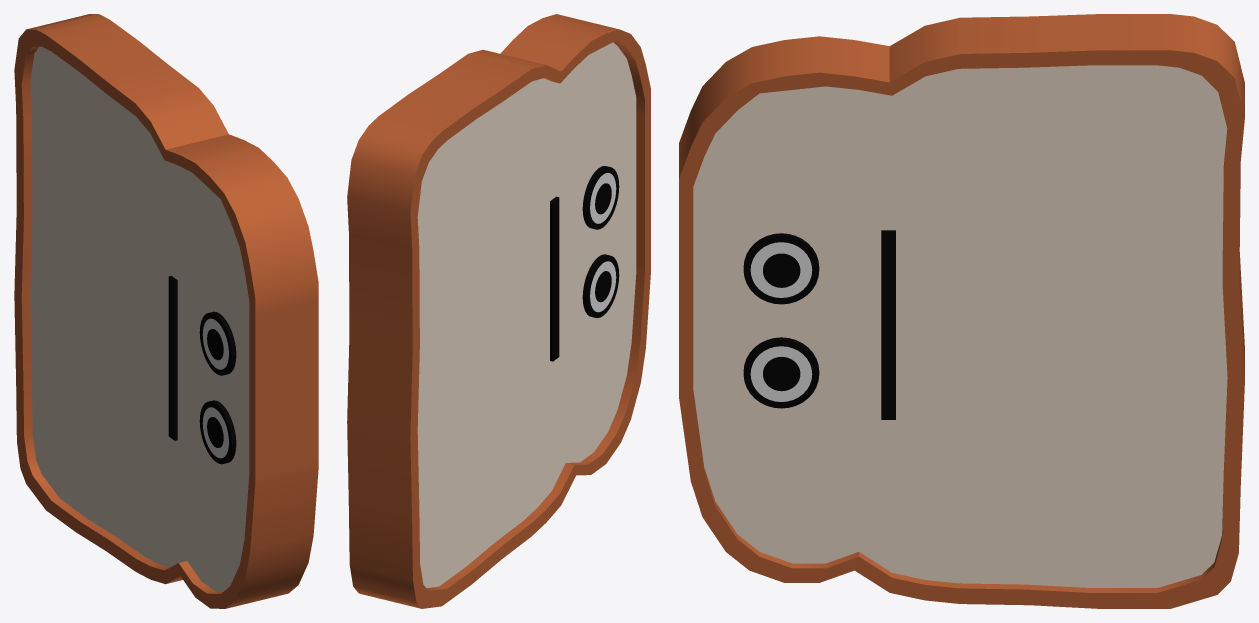
File: toast.glb
3 views of the same model, side by side, from view 1: azimuth 30°, elevation 25°; view 2: azimuth 150°, elevation 25°; view 3: azimuth 270°, elevation 25° (orthographic). The views are drawn at different scales.
Visible parts, largest first — view 1: Plane; view 2: Plane; view 3: Plane.
Part boxes in pixels (x1,y1,x2,y2): Plane: (14, 14, 318, 608); Plane: (347, 14, 650, 608); Plane: (679, 14, 1244, 608).
Size of the model in its own units: 0.0346 by 0.2481 by 0.2277.
